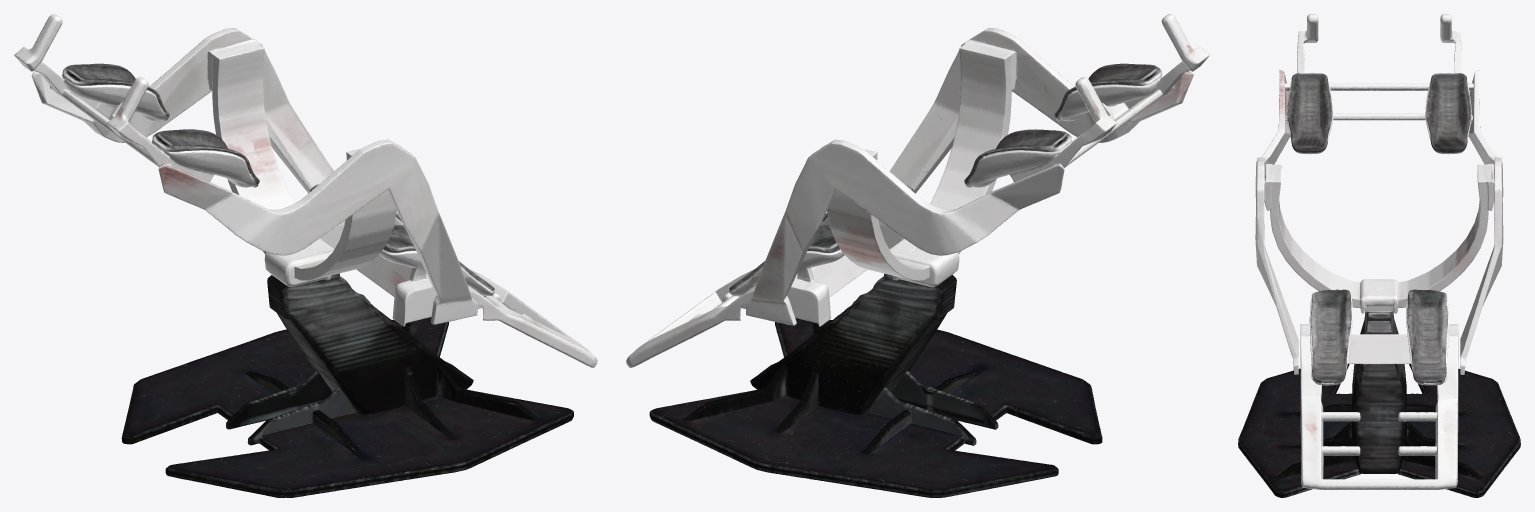
Rendered from icaros.glb.
3 renders of one model, left to right at view 1: azimuth 30°, elevation 25°; view 2: azimuth 150°, elevation 25°; view 3: azimuth 270°, elevation 25°, orthographic. The views are drawn at different scales.
Visible parts, largest first — view 1: world; view 2: world; view 3: world.
Boxes of the visible parts, x1,y1,x2,y2 form: world: (14, 14, 597, 497); world: (626, 14, 1209, 497); world: (1238, 14, 1520, 497).
Bounding box in the file's own units: 1 × 0.8374 × 0.6525.
1 material, 1 textured.
